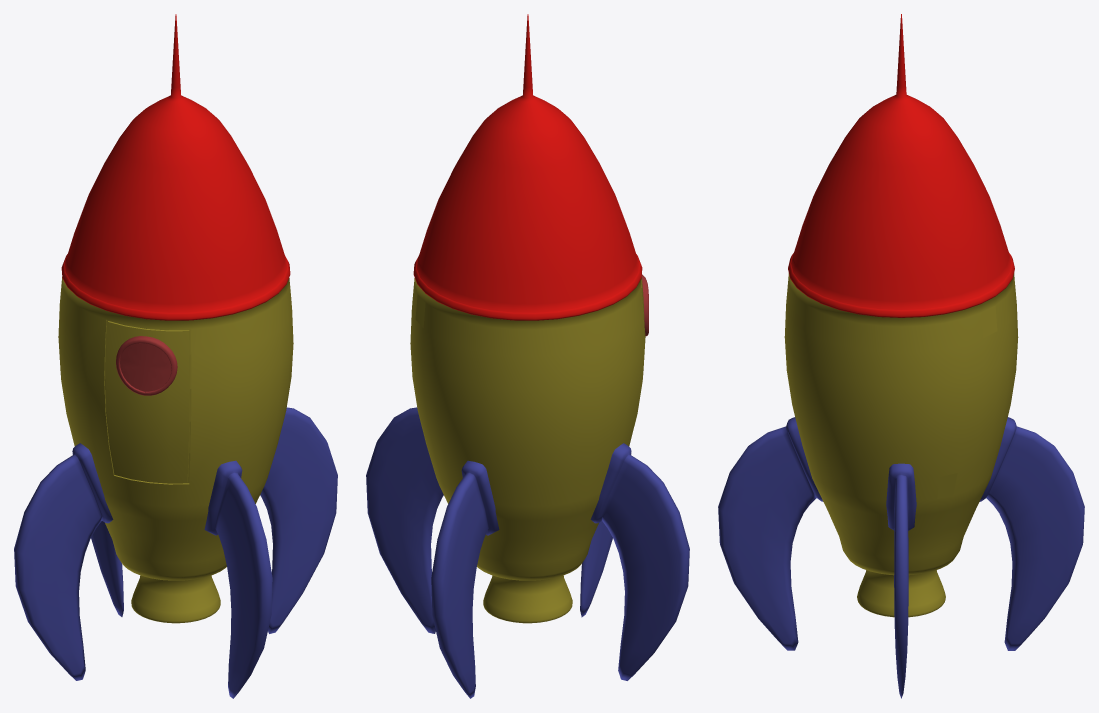
The picture shows the model from 3 angles, left to right: view 1: azimuth 30°, elevation 25°; view 2: azimuth 150°, elevation 25°; view 3: azimuth 270°, elevation 25°; orthographic projection.
Parts seen in each view (by area): view 1: CUERPO (×2), ALERONES, VENTANA; view 2: CUERPO (×2), ALERONES; view 3: CUERPO (×2), ALERONES.
Part boxes in pixels (x1,y1,x2,y2): CUERPO (×2): (58, 14, 293, 623); ALERONES: (14, 407, 337, 698); VENTANA: (116, 336, 177, 395); CUERPO (×2): (410, 14, 645, 623); ALERONES: (366, 407, 689, 698); CUERPO (×2): (784, 14, 1018, 617); ALERONES: (718, 417, 1084, 698).
Size of what is drawn, in the model's own units: 0.4545 by 0.8706 by 0.4545.
